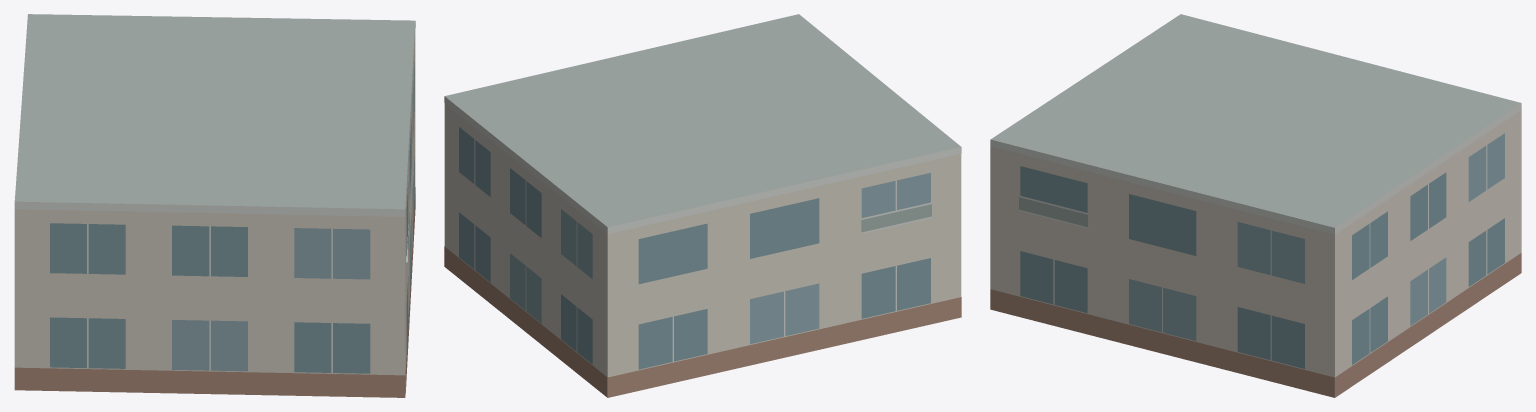
The model's file is survey-upis-32693961.glb.
3 renders of one model, left to right at view 1: azimuth 30°, elevation 25°; view 2: azimuth 150°, elevation 25°; view 3: azimuth 270°, elevation 25°, orthographic. The views are drawn at different scales.
Parts seen in each view (by area): view 1: survey-upis-32693961.tmp; view 2: survey-upis-32693961.tmp; view 3: survey-upis-32693961.tmp.
Boxes of the visible parts, x1,y1,x2,y2 form: survey-upis-32693961.tmp: (14,14,415,397); survey-upis-32693961.tmp: (444,14,961,397); survey-upis-32693961.tmp: (990,14,1521,397).
Bounding box in the file's own units: 16.47 × 6.1 × 17.28.
